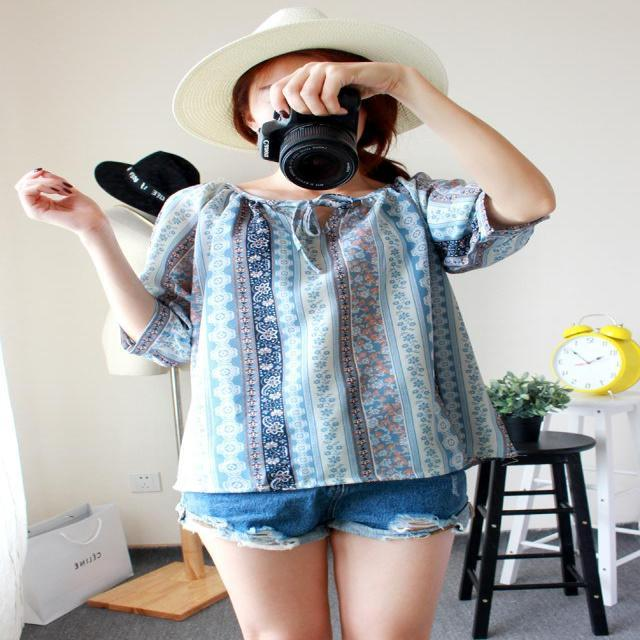long sleeve top: (132, 175, 542, 487)
shorts: (179, 443, 472, 535)
